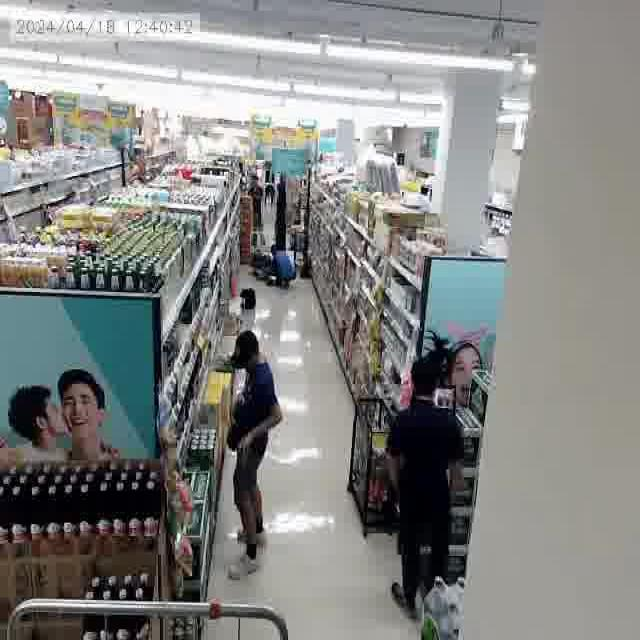shoplifting: (207, 323, 291, 585)
